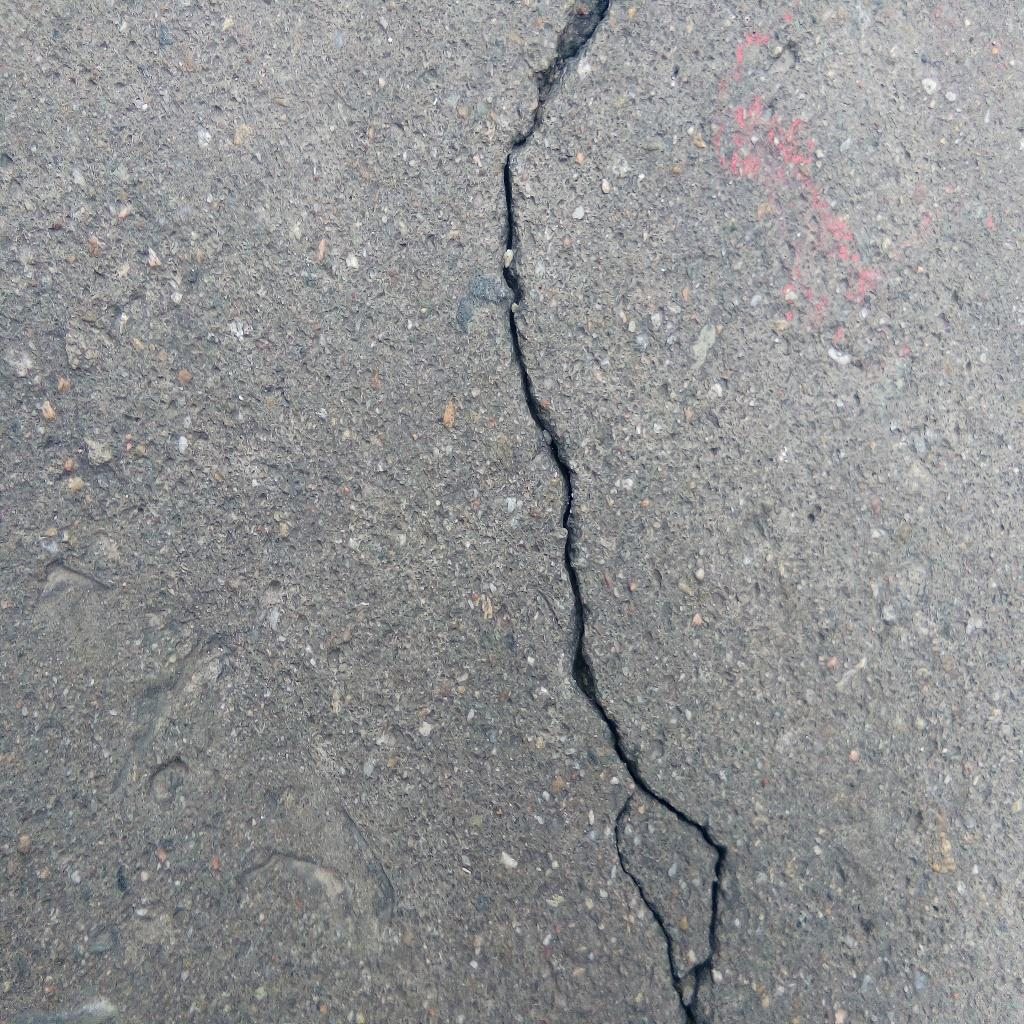Crack: (500, 1, 731, 1024)
